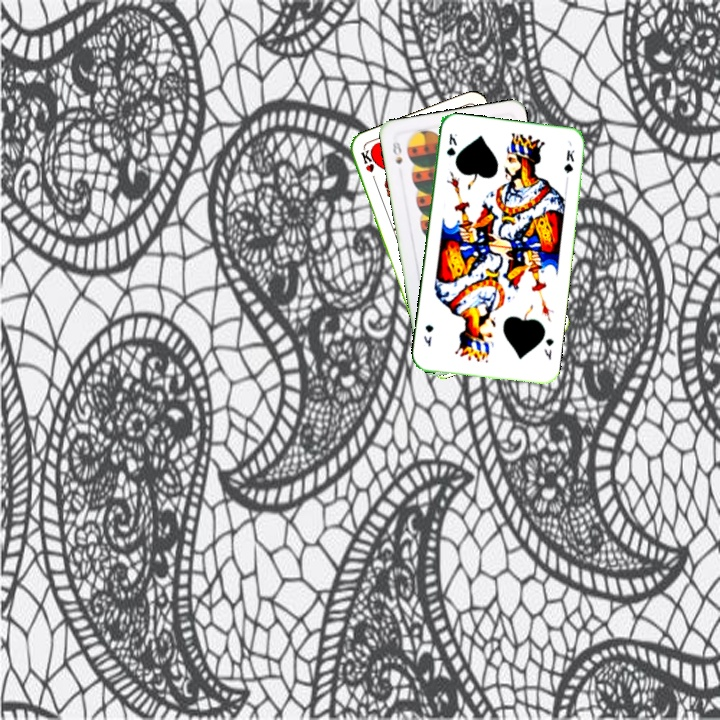GK: (443, 130, 460, 160), (540, 334, 556, 362)
HK: (356, 146, 380, 186)
S8: (388, 135, 405, 167)
